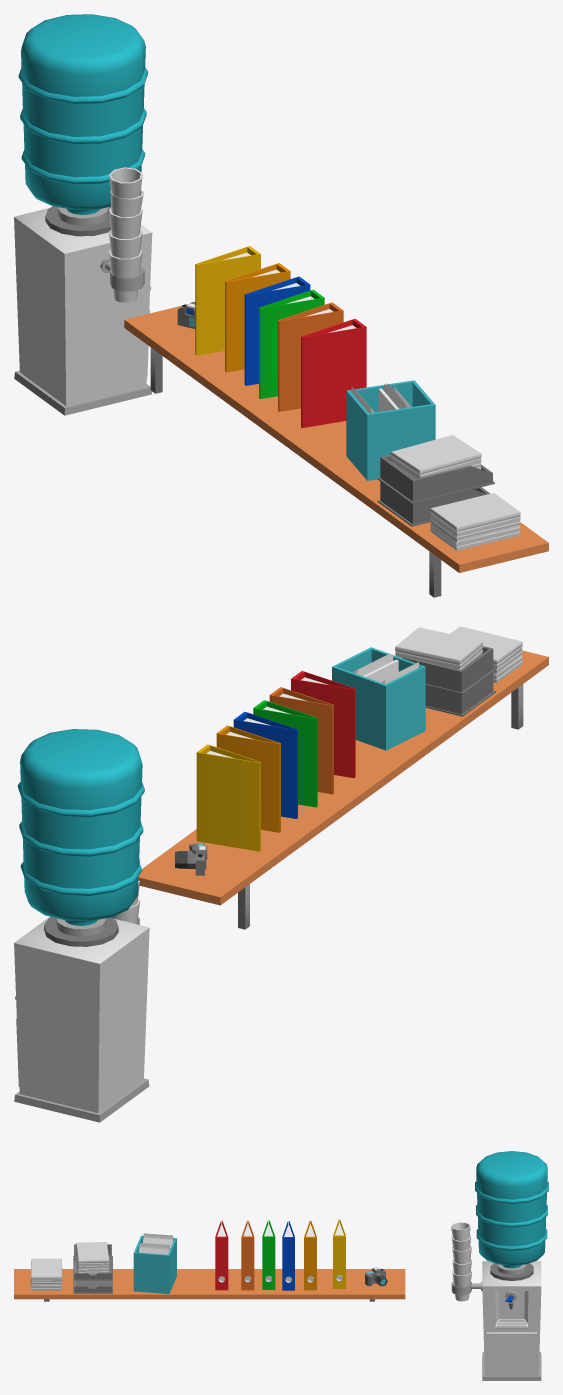
File: OficinasObjetos05.fbx
3 views of the same model, one above another, from view 1: azimuth 30°, elevation 25°; view 2: azimuth 150°, elevation 25°; view 3: azimuth 270°, elevation 25° (orthographic). The views are drawn at different scales.
Parts seen in each view (by area): view 1: OficinasObjetos05; view 2: OficinasObjetos05; view 3: OficinasObjetos05.
Part boxes in pixels (x1=…): OficinasObjetos05: x1=14, y1=14, x2=548, y2=597; OficinasObjetos05: x1=14, y1=626, x2=548, y2=1122; OficinasObjetos05: x1=14, y1=1151, x2=548, y2=1380.
Size of the model in its own units: 65.38 by 194 by 459.
